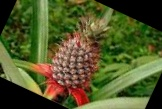Pineapple: (52, 15, 103, 89)
